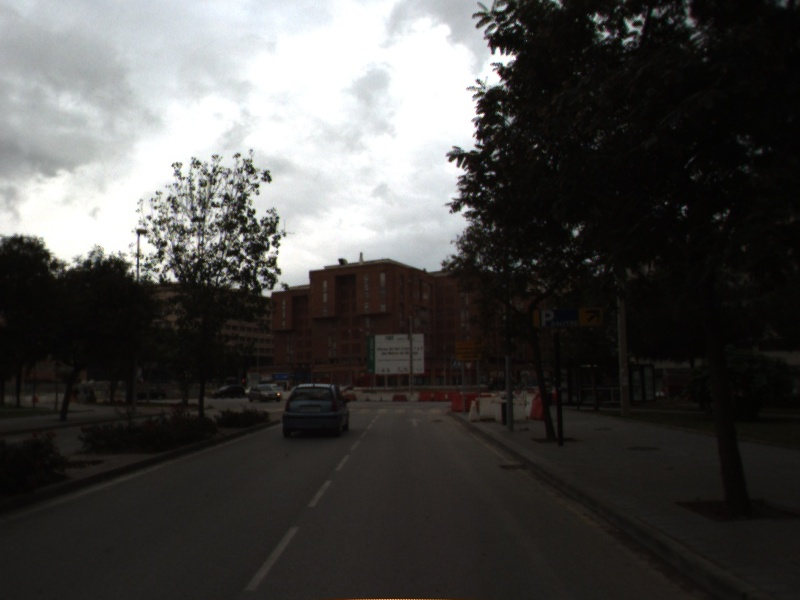STRAIGHT: (404, 415, 427, 429)
